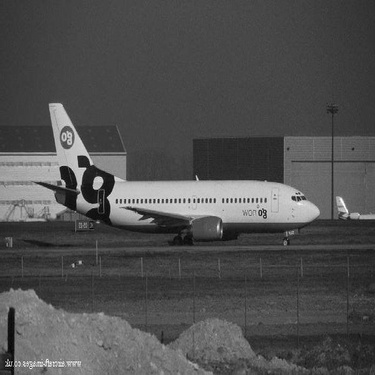airplane: (20, 80, 333, 259), (321, 188, 374, 237)
